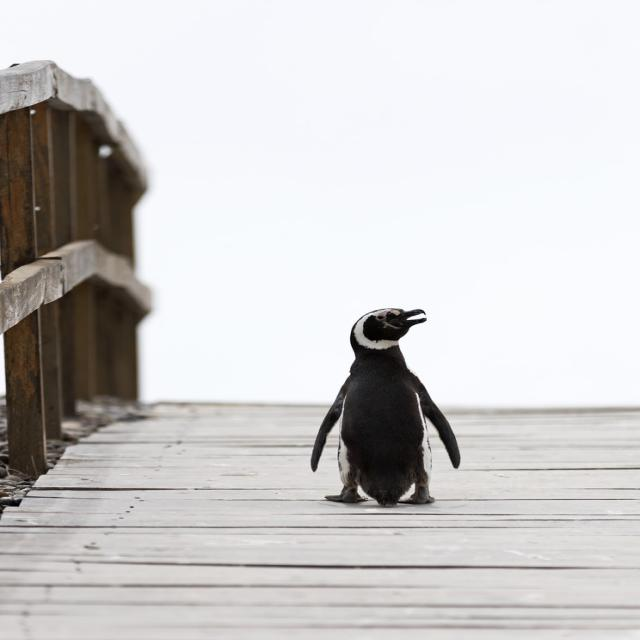Penguins: (315, 296, 465, 516)
